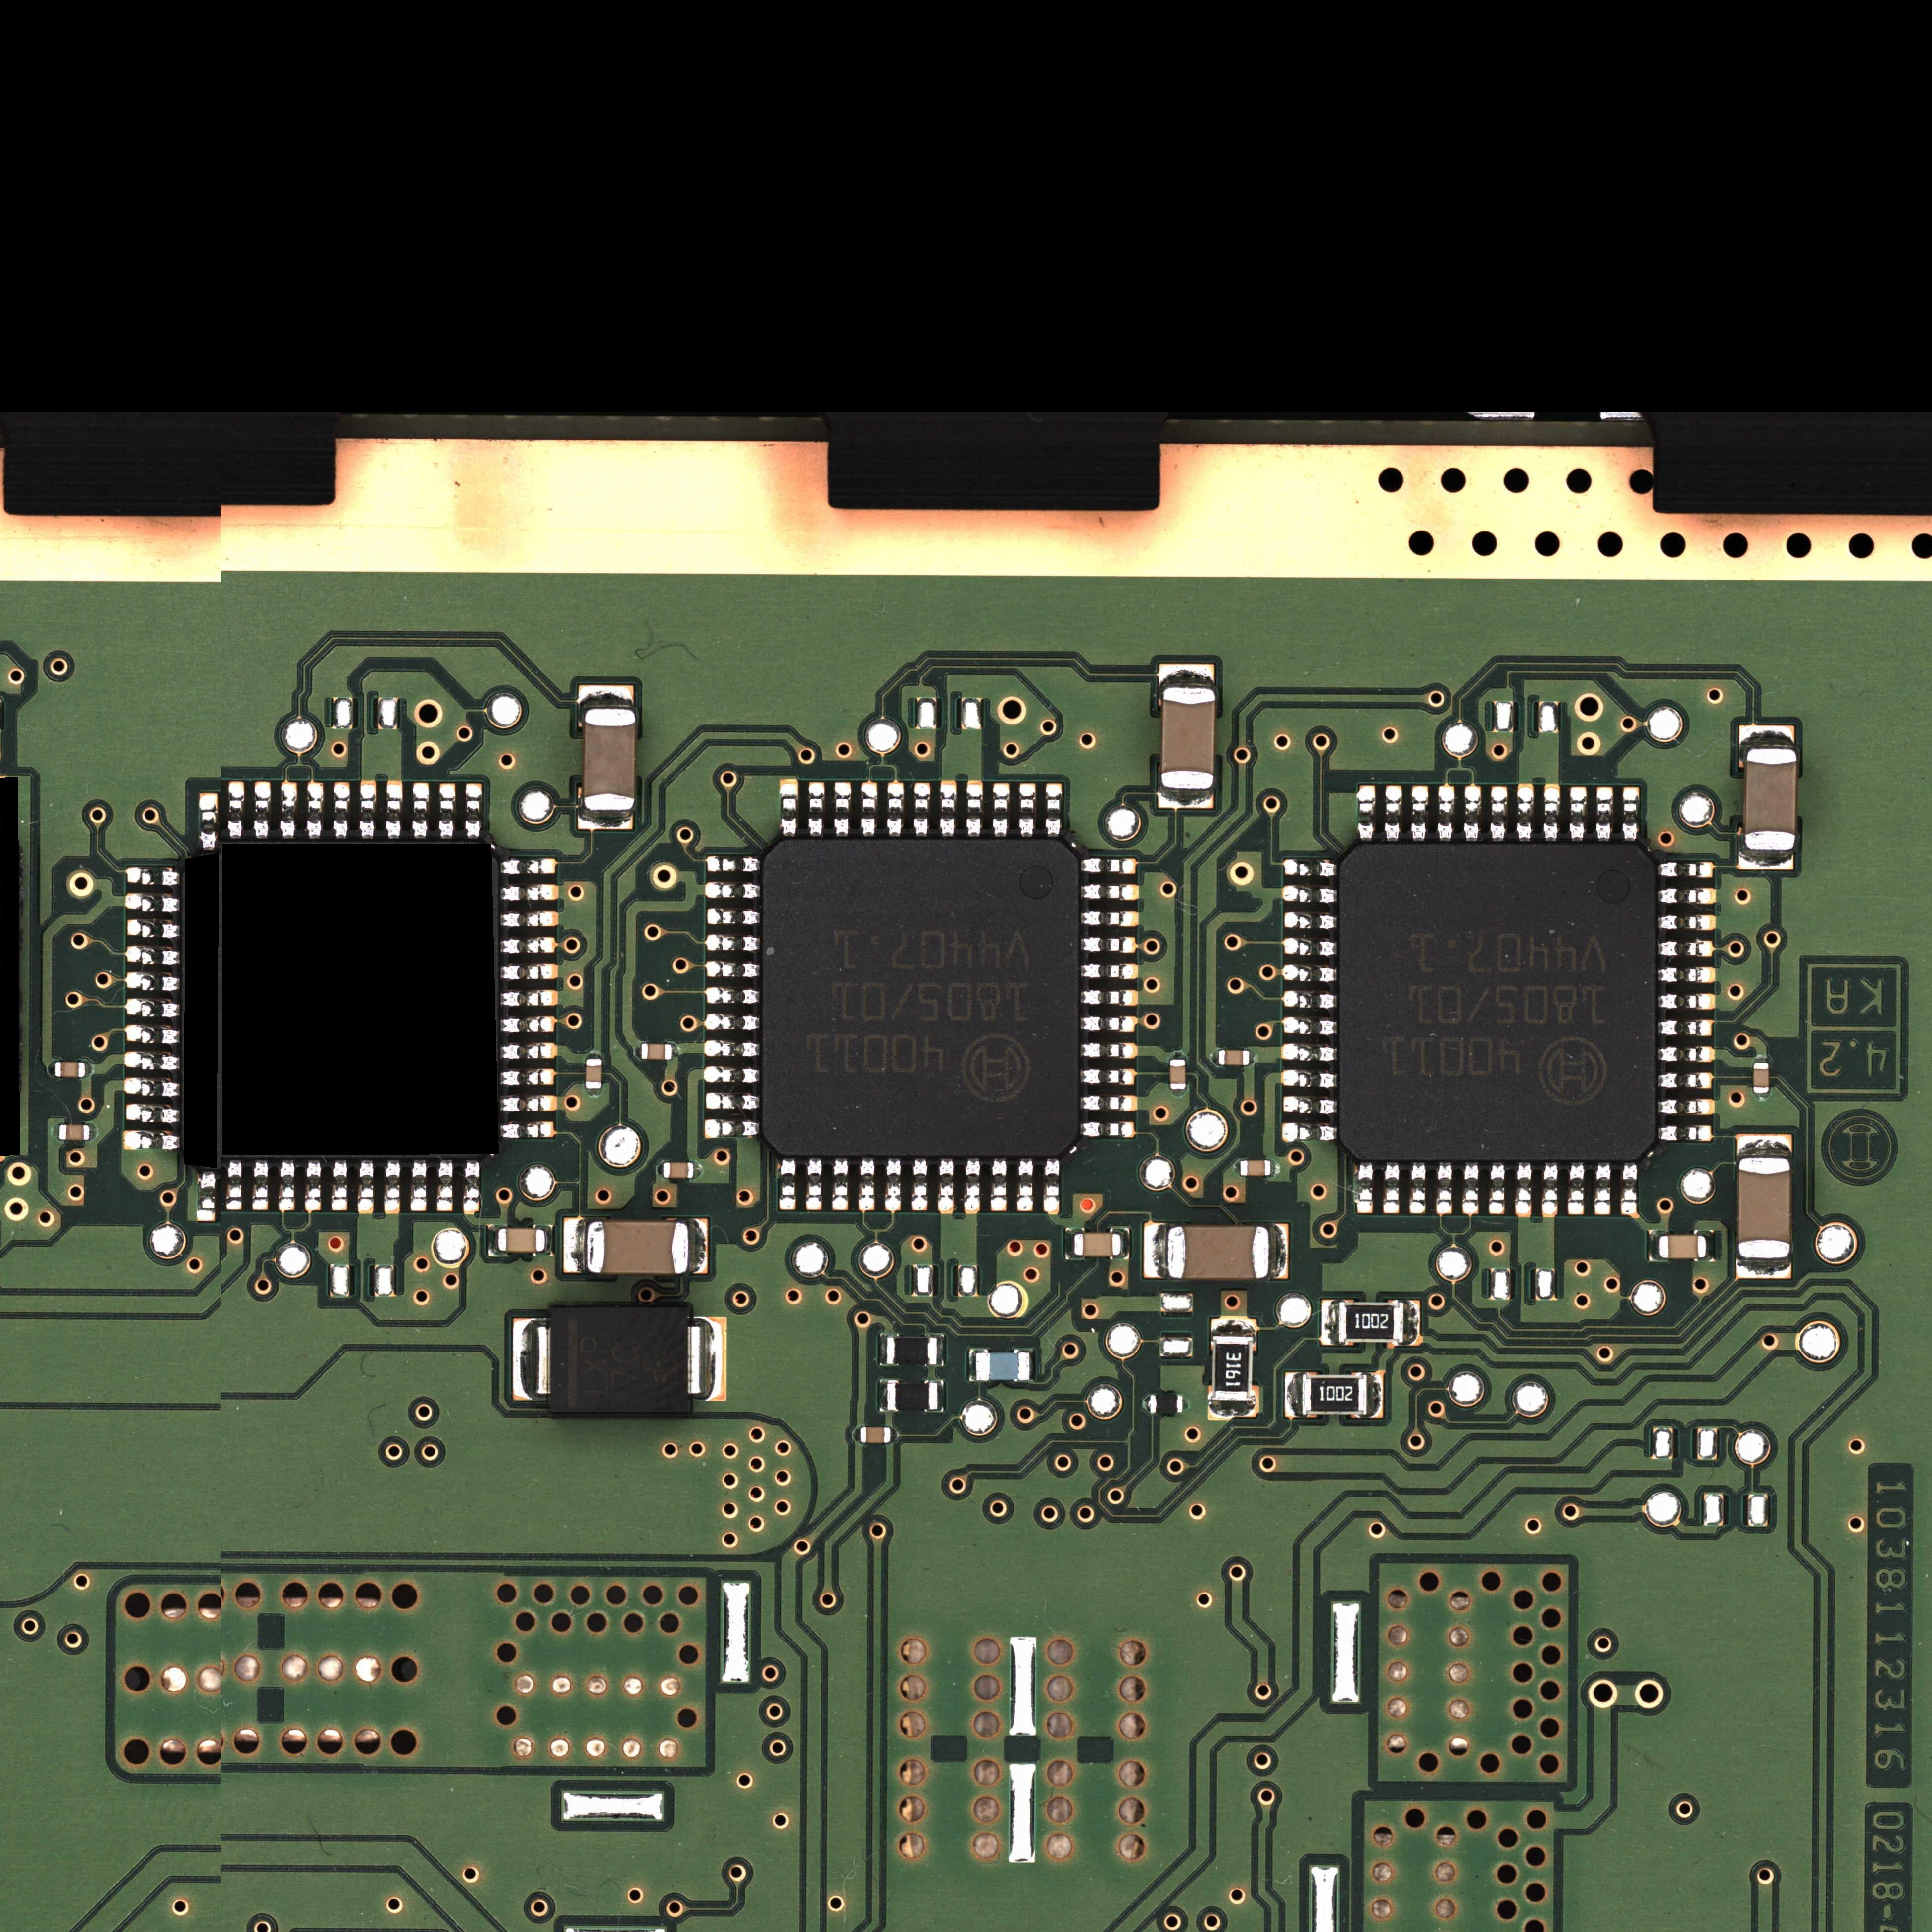Package: (759, 837, 1077, 1159), (1338, 844, 1656, 1162), (550, 1307, 688, 1414), (1161, 688, 1215, 789), (587, 1221, 688, 1274), (1168, 1226, 1269, 1279), (584, 708, 635, 810), (1737, 1159, 1790, 1258), (1744, 748, 1796, 849), (1302, 1375, 1368, 1415), (1212, 1336, 1253, 1401), (1339, 1302, 1403, 1343), (977, 1352, 1030, 1380), (888, 1382, 938, 1410), (886, 1338, 938, 1364), (497, 1228, 545, 1253), (1660, 1235, 1706, 1258), (1074, 1233, 1120, 1256), (1150, 1394, 1184, 1414), (640, 1044, 672, 1060), (663, 1162, 694, 1178), (860, 1428, 890, 1444), (586, 1058, 602, 1088), (55, 1062, 85, 1077), (1240, 1161, 1270, 1177), (1169, 1060, 1185, 1090), (1219, 1049, 1249, 1065), (1753, 1063, 1769, 1093), (58, 1125, 90, 1139)
Solder: (688, 1316, 725, 1401), (513, 1318, 550, 1401), (1159, 663, 1215, 688), (579, 685, 635, 708), (1739, 725, 1796, 748), (1736, 1134, 1792, 1157), (564, 1217, 586, 1274), (1145, 1223, 1166, 1279), (1736, 1258, 1792, 1279), (198, 793, 218, 851), (577, 810, 633, 830), (688, 1217, 708, 1274), (1157, 789, 1214, 809), (704, 1118, 759, 1138), (1081, 1067, 1136, 1086), (124, 1131, 179, 1150), (124, 1077, 179, 1097), (124, 971, 179, 991), (124, 1024, 179, 1044), (126, 867, 180, 886), (1283, 938, 1336, 957), (1081, 909, 1139, 927), (1081, 962, 1139, 980), (1283, 964, 1336, 984), (1283, 991, 1336, 1010), (1658, 966, 1716, 984), (126, 1104, 179, 1123), (126, 918, 179, 938), (780, 780, 798, 837), (1083, 883, 1139, 901), (1081, 858, 1138, 876), (1081, 936, 1138, 954), (1081, 1042, 1138, 1060), (1081, 1095, 1138, 1113), (1081, 1016, 1138, 1033), (1081, 989, 1138, 1007), (1737, 851, 1794, 869), (1516, 784, 1534, 840), (1658, 939, 1714, 957), (1658, 1046, 1714, 1063), (1658, 1072, 1714, 1090), (1660, 993, 1716, 1010), (704, 1040, 759, 1058), (704, 1014, 759, 1031), (704, 1067, 759, 1085), (858, 1157, 876, 1212), (704, 987, 759, 1005), (1281, 1044, 1336, 1062), (1270, 1224, 1288, 1279), (1081, 1120, 1136, 1138), (1281, 1070, 1336, 1088), (1660, 862, 1714, 879), (1543, 786, 1560, 840), (1621, 1162, 1638, 1217), (1541, 1162, 1559, 1217), (1660, 1099, 1714, 1116), (1658, 1019, 1713, 1037), (1514, 1162, 1532, 1217), (706, 883, 759, 901), (706, 856, 759, 874), (706, 934, 759, 952), (706, 961, 759, 978), (706, 908, 759, 925), (911, 1159, 929, 1212), (706, 1093, 759, 1111), (1283, 860, 1336, 878), (1283, 886, 1336, 904), (1283, 1123, 1336, 1141), (1283, 1097, 1336, 1115), (1283, 1017, 1336, 1035), (1568, 1162, 1585, 1215), (1594, 1162, 1612, 1215), (126, 1053, 179, 1070), (126, 947, 179, 964), (126, 1000, 179, 1017), (126, 893, 179, 911), (1658, 888, 1716, 904), (1658, 915, 1716, 931), (228, 780, 244, 839), (281, 780, 297, 839), (308, 780, 324, 839), (333, 780, 349, 839), (359, 780, 375, 839), (465, 780, 481, 839), (439, 780, 455, 839), (778, 1159, 796, 1210), (1284, 913, 1336, 931), (1355, 1162, 1373, 1214), (1207, 1401, 1258, 1419), (939, 780, 955, 837), (966, 780, 982, 837), (1044, 1159, 1060, 1215), (1569, 786, 1585, 842), (1491, 786, 1507, 842), (412, 780, 428, 837), (862, 782, 878, 837), (809, 782, 824, 837), (888, 782, 904, 837), (835, 782, 851, 837), (913, 782, 929, 837), (938, 1159, 954, 1214), (964, 1159, 980, 1214), (1412, 786, 1428, 840), (1359, 786, 1375, 840), (1438, 786, 1454, 840), (1385, 786, 1401, 840), (1465, 786, 1481, 840), (502, 911, 557, 927), (502, 991, 557, 1007), (501, 1122, 556, 1138), (833, 1159, 849, 1212), (885, 1159, 901, 1212), (1019, 784, 1035, 837), (1046, 784, 1062, 837), (993, 784, 1008, 837), (991, 1159, 1007, 1212), (1210, 1318, 1258, 1336), (1017, 1159, 1033, 1212), (1596, 787, 1612, 840), (1622, 787, 1638, 840), (1660, 1125, 1713, 1141), (1463, 1162, 1479, 1215), (1490, 1162, 1506, 1215), (1437, 1162, 1453, 1215), (464, 1161, 479, 1214), (502, 858, 556, 874), (255, 780, 269, 839), (387, 780, 402, 839), (807, 1159, 823, 1210), (1384, 1162, 1399, 1214), (1410, 1162, 1426, 1214), (200, 1171, 216, 1223), (437, 1161, 453, 1212), (502, 886, 559, 901), (501, 1017, 557, 1031), (253, 1161, 269, 1210), (410, 1162, 426, 1212), (501, 964, 556, 978), (502, 1044, 557, 1058), (501, 1070, 556, 1085), (501, 1097, 556, 1111), (1368, 1371, 1384, 1419), (1284, 1371, 1300, 1419), (504, 938, 557, 952), (1405, 1300, 1421, 1346), (1322, 1300, 1338, 1346), (228, 1159, 242, 1210), (306, 1161, 320, 1212), (384, 1162, 398, 1214), (359, 1162, 373, 1214), (280, 1161, 294, 1210), (333, 1162, 347, 1212), (1649, 1231, 1660, 1260), (1706, 1231, 1716, 1260), (488, 1224, 497, 1256), (968, 1350, 977, 1380), (1065, 1230, 1074, 1258), (879, 1380, 886, 1412), (938, 1334, 945, 1366), (938, 1380, 945, 1412), (879, 1334, 886, 1366), (545, 1226, 552, 1254), (1122, 1230, 1129, 1258), (1030, 1350, 1035, 1380), (88, 1123, 97, 1139), (694, 1162, 702, 1178), (633, 1044, 642, 1060), (1210, 1049, 1219, 1065), (1141, 1396, 1150, 1412), (1270, 1161, 1279, 1177), (672, 1042, 679, 1060), (51, 1123, 58, 1139), (85, 1062, 92, 1077), (656, 1162, 663, 1178), (853, 1426, 860, 1442), (586, 1088, 602, 1095), (586, 1053, 602, 1060), (890, 1426, 897, 1442), (1233, 1161, 1240, 1177), (1169, 1053, 1185, 1060), (1249, 1049, 1256, 1065), (1169, 1090, 1185, 1097), (1184, 1396, 1191, 1412), (1753, 1093, 1769, 1100), (1753, 1056, 1769, 1063), (48, 1062, 55, 1076)
